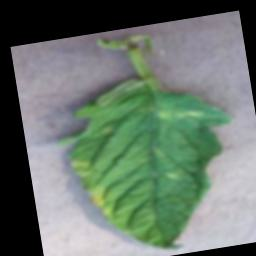Leaf_Mold: (87, 185, 113, 224)
